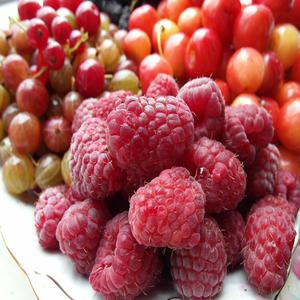raspb: (63, 90, 294, 299)
